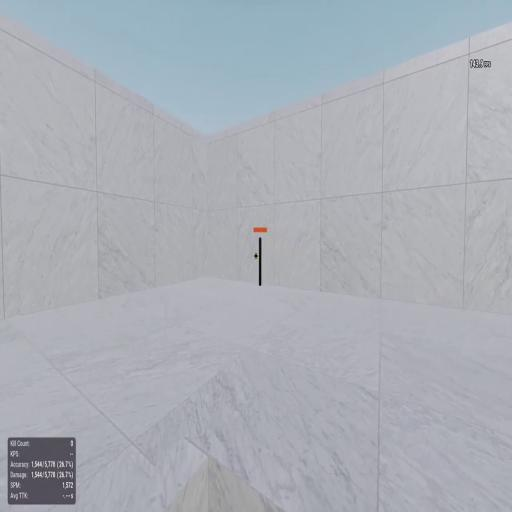Crosshair: (254, 252, 258, 260)
Target: (258, 236, 263, 287)
